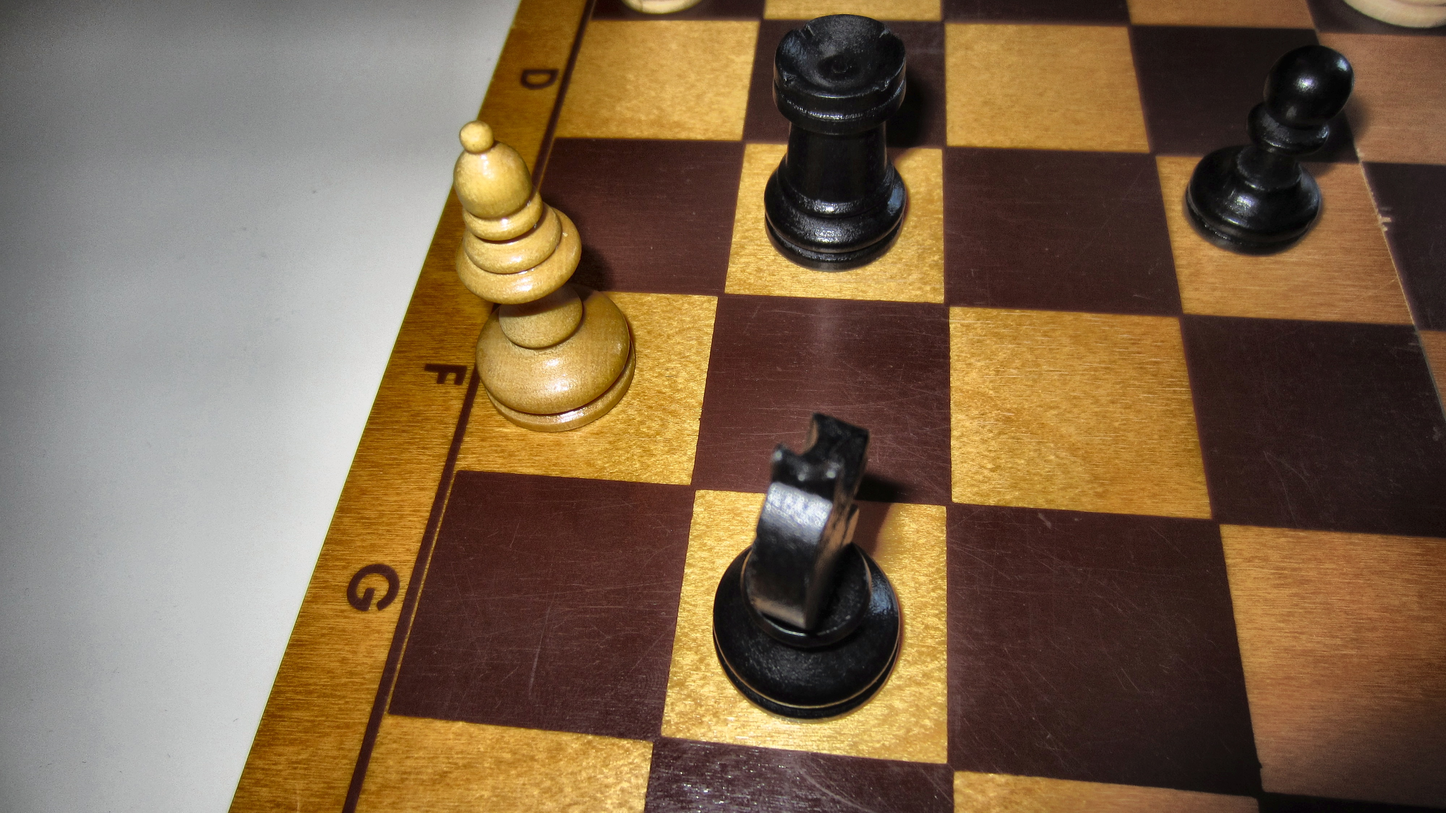black-bishop: (706, 407, 905, 727)
black-pawn: (1179, 42, 1354, 257)
black-rook: (762, 12, 911, 274)
white-bishop: (451, 115, 641, 431)
